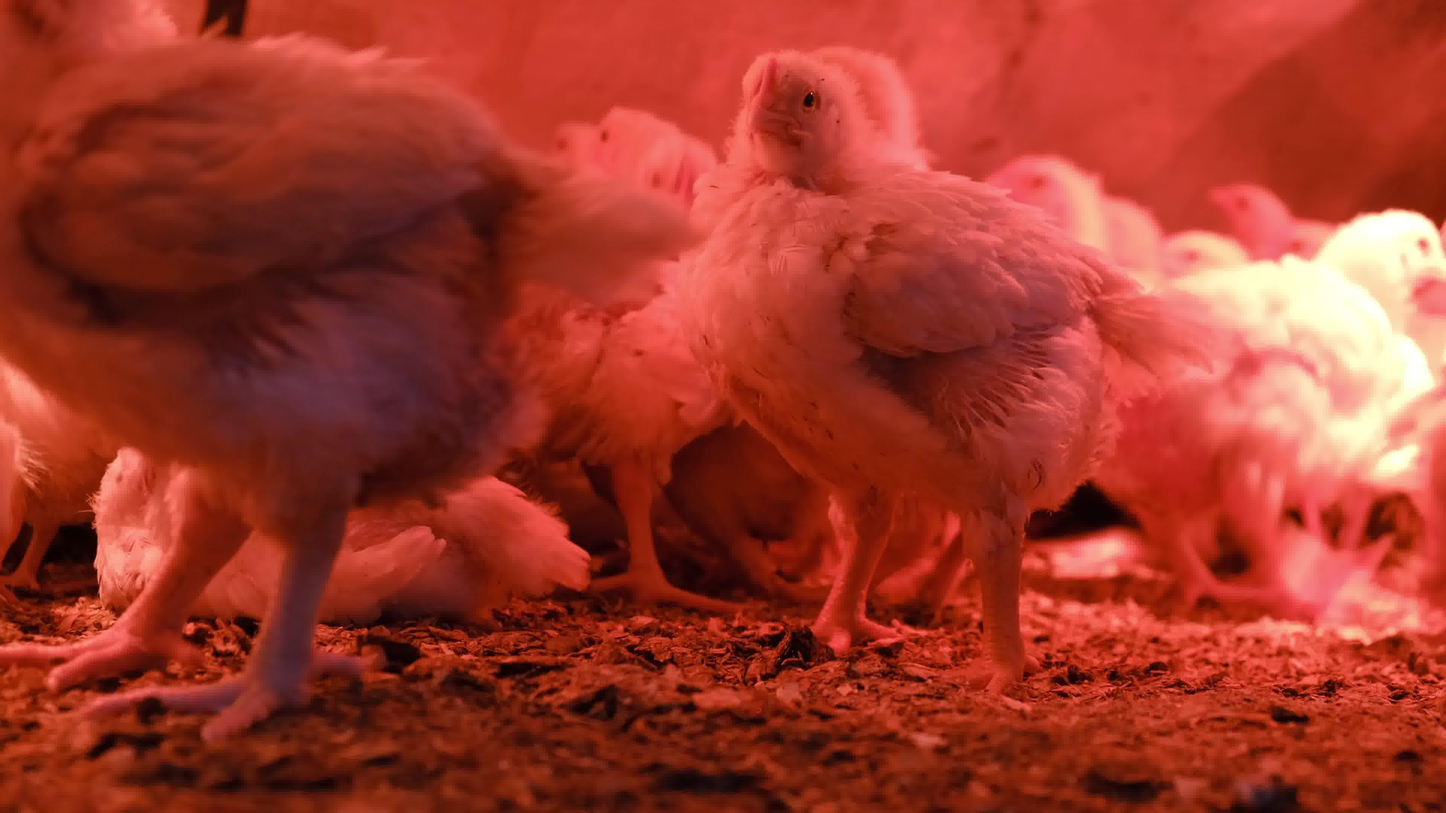AbNormal: (70, 388, 596, 628)
Normal: (0, 0, 706, 745), (695, 44, 1221, 703), (1096, 211, 1446, 623), (512, 96, 753, 602), (4, 362, 126, 605), (983, 145, 1117, 286), (1200, 170, 1343, 264), (1161, 226, 1245, 294), (1101, 193, 1159, 280)
